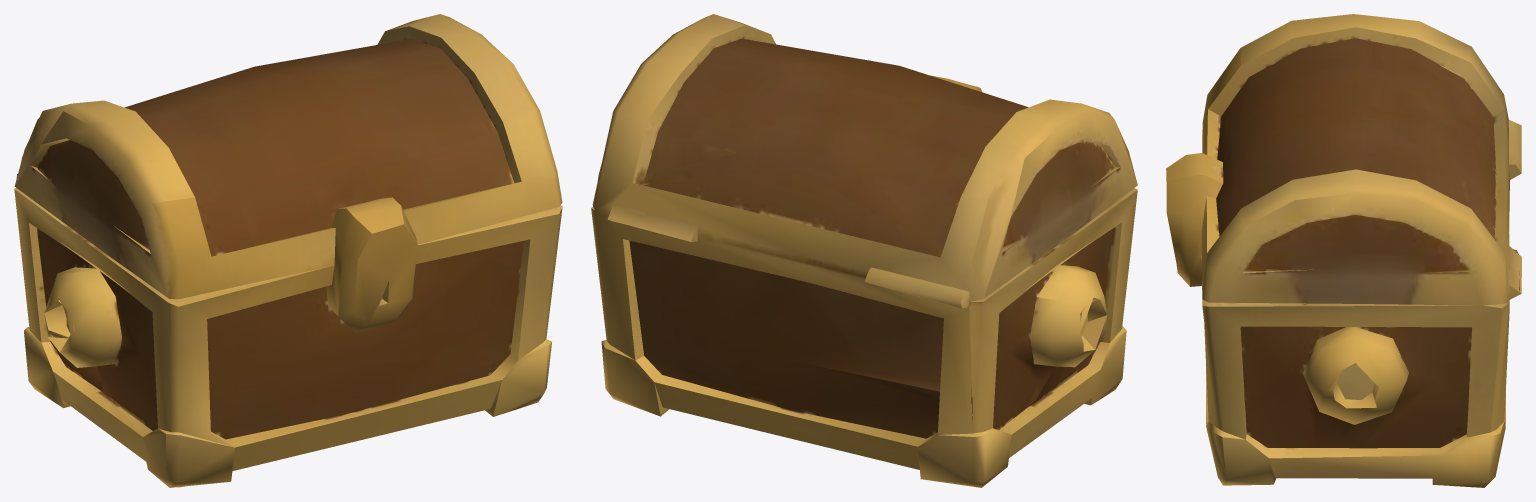
File: 寶箱關閉.glb
3 views of the same model, side by side, from view 1: azimuth 30°, elevation 25°; view 2: azimuth 150°, elevation 25°; view 3: azimuth 270°, elevation 25° (orthographic). The views are drawn at different scales.
Parts seen in each view (by area): view 1: geometry_0; view 2: geometry_0; view 3: geometry_0.
Boxes of the visible parts, left/top/right/bottom form: geometry_0: left=14, top=14, right=562, bottom=487; geometry_0: left=591, top=14, right=1137, bottom=487; geometry_0: left=1166, top=14, right=1521, bottom=487.
Bounding box in the file's own units: 1 × 0.6666 × 0.7045.
1 material, 1 textured.
